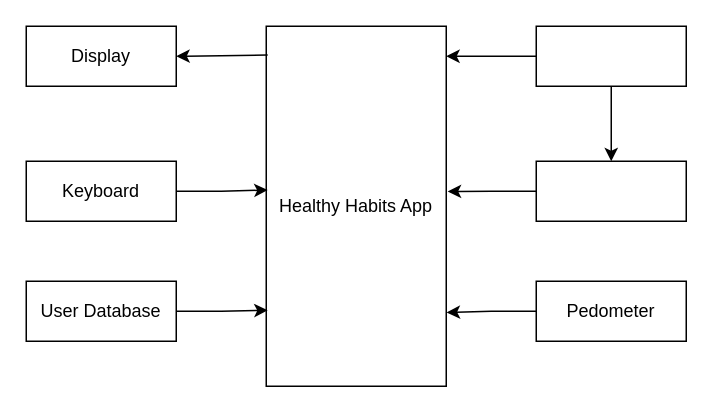
Some shapes in this 713 by 413 pixel diagram are drawn without their labels. The shapes that lost their labels are listed below. From the top down, each one's centre as x and y in pixels, then its label:
(610,55): System Clock
(610,190): Notifications
